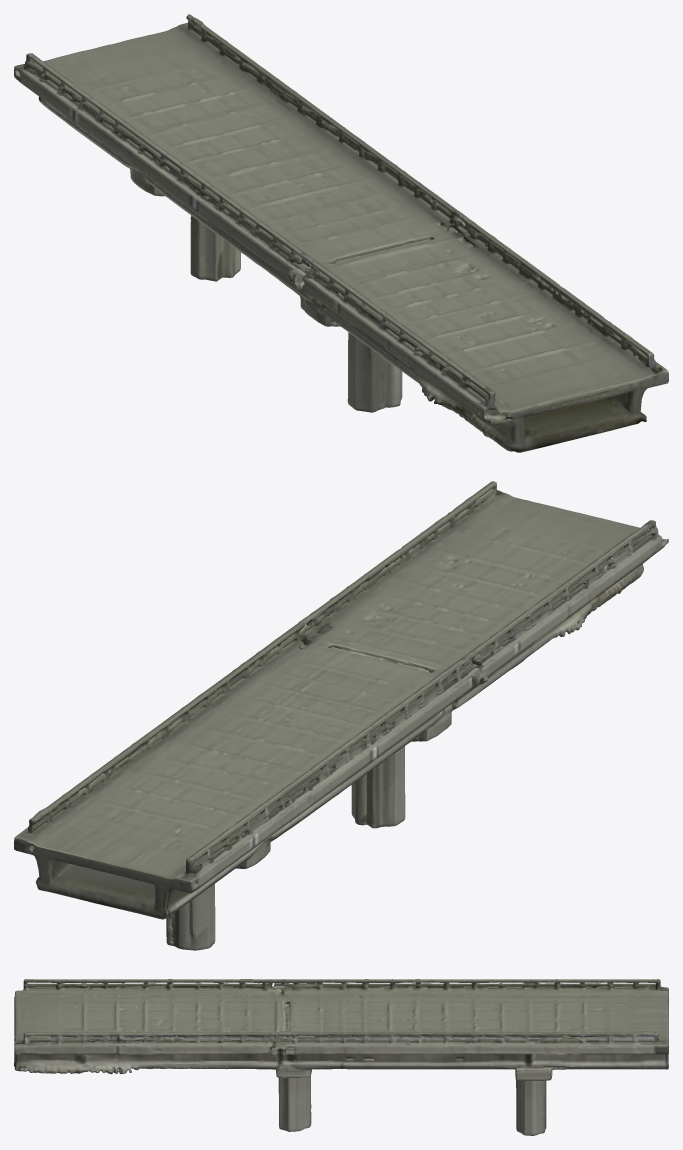
Rendered from tutorial-girder-v1.glb.
3 renders of one model, top to bottom at view 1: azimuth 30°, elevation 25°; view 2: azimuth 150°, elevation 25°; view 3: azimuth 270°, elevation 25°, orthographic. The views are drawn at different scales.
Parts seen in each view (by area): view 1: geometry_0; view 2: geometry_0; view 3: geometry_0.
Part boxes in pixels (box(x1,y1,x2,y2)): geometry_0: box(14, 14, 668, 452); geometry_0: box(14, 481, 668, 950); geometry_0: box(14, 979, 668, 1135).
Size of the model in its own units: 30 by 26.18 by 130.
Materials: 1 (1 with a texture image).
